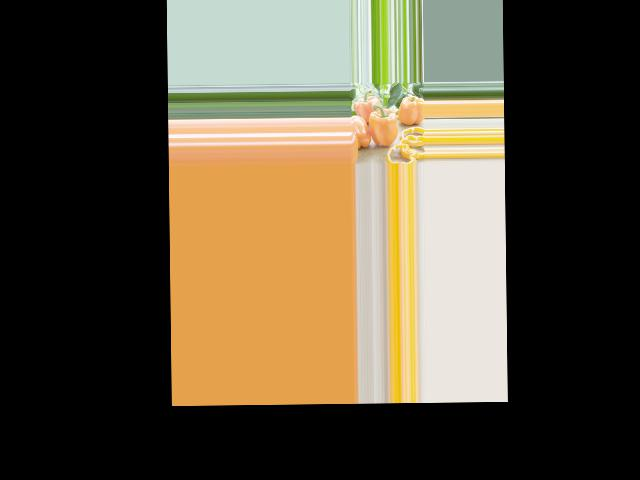bell_pepper: (350, 114, 370, 149)
